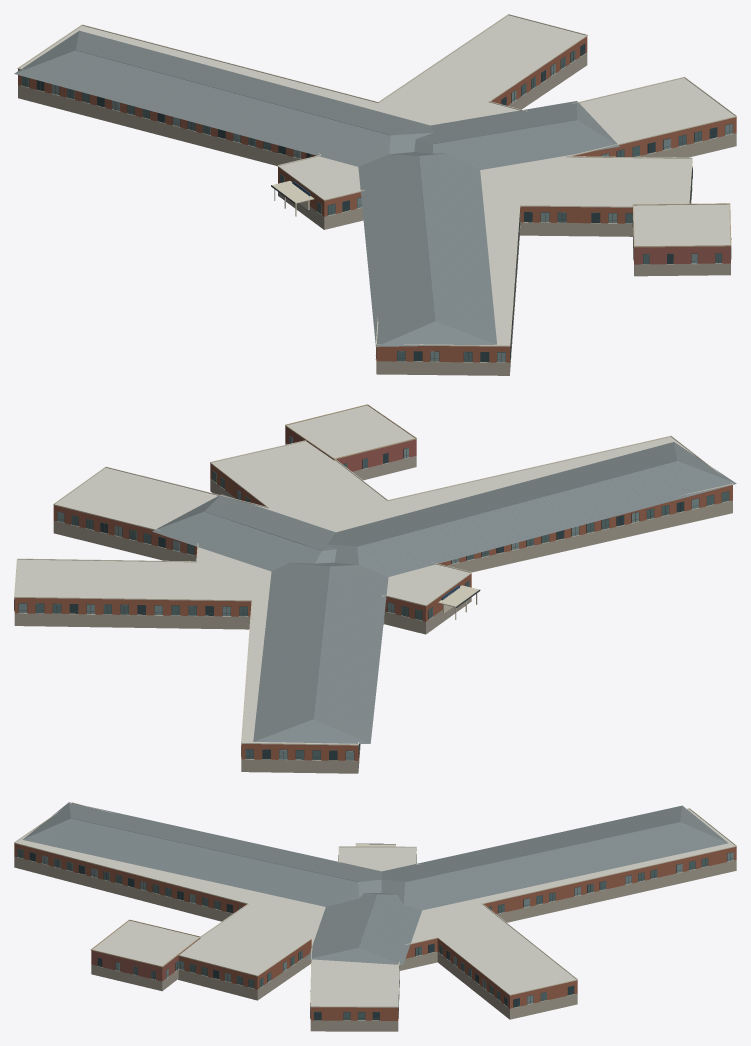
File: della-davidson.glb
3 views of the same model, one above another, from view 1: azimuth 30°, elevation 25°; view 2: azimuth 150°, elevation 25°; view 3: azimuth 270°, elevation 25° (orthographic). The views are drawn at different scales.
Parts seen in each view (by area): view 1: 247507070 | Roof, 247507070 | Shell and foundation, 247507070 | Facades, Southeast classroom extension | Shell and foundation; view 2: 247507070 | Roof, 247507070 | Shell and foundation, 247507070 | Facades, Southeast classroom extension | Shell and foundation; view 3: 247507070 | Roof, 247507070 | Shell and foundation, 247507070 | Facades, Southeast classroom extension | Shell and foundation, Southeast classroom extension | Facades.
Boxes of the visible parts, bbox=[...] form: 247507070 | Roof: bbox=[14, 15, 734, 346]; 247507070 | Shell and foundation: bbox=[18, 36, 736, 375]; 247507070 | Facades: bbox=[17, 14, 736, 362]; Southeast classroom extension | Shell and foundation: bbox=[634, 246, 730, 264]; 247507070 | Roof: bbox=[15, 405, 736, 744]; 247507070 | Shell and foundation: bbox=[14, 443, 732, 773]; 247507070 | Facades: bbox=[14, 435, 733, 761]; Southeast classroom extension | Shell and foundation: bbox=[285, 426, 416, 471]; 247507070 | Roof: bbox=[16, 802, 735, 1006]; 247507070 | Shell and foundation: bbox=[14, 843, 736, 1031]; 247507070 | Facades: bbox=[14, 802, 736, 1020]; Southeast classroom extension | Shell and foundation: bbox=[91, 938, 200, 981]; Southeast classroom extension | Facades: bbox=[90, 919, 200, 967].
Bounding box in the file's own units: 121 × 9 × 180.
